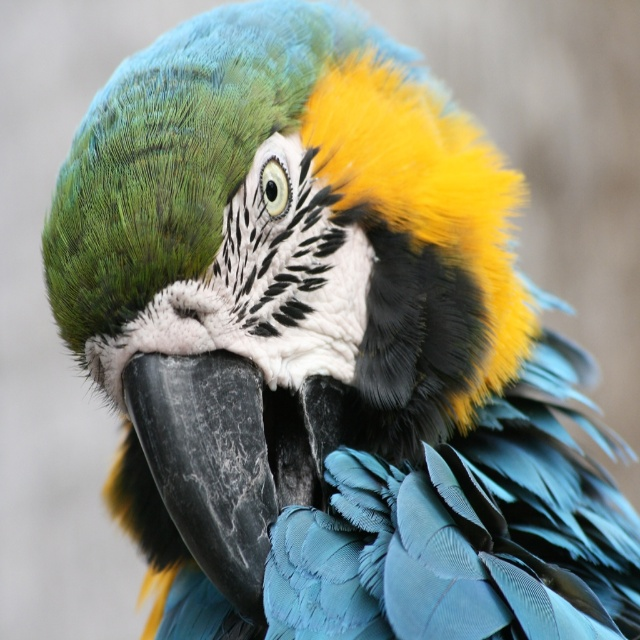Parrot: (36, 0, 640, 639)
